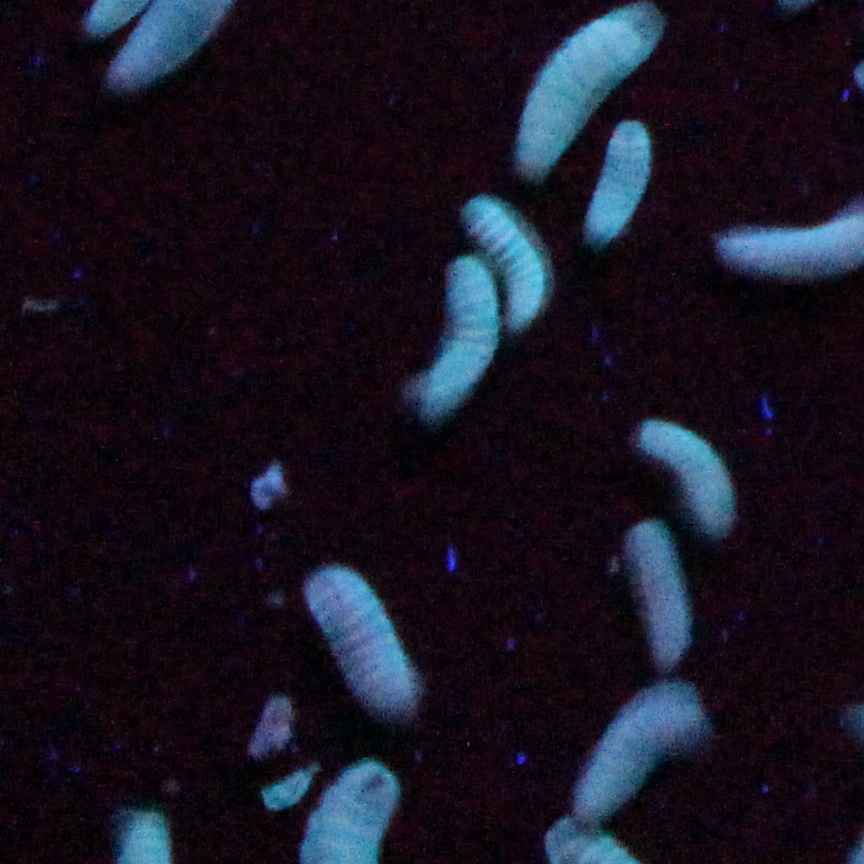larve: (520, 7, 659, 170), (297, 576, 439, 724), (565, 684, 694, 818), (408, 256, 494, 407), (631, 530, 702, 673), (645, 424, 745, 521), (574, 130, 645, 244), (471, 198, 540, 313)
